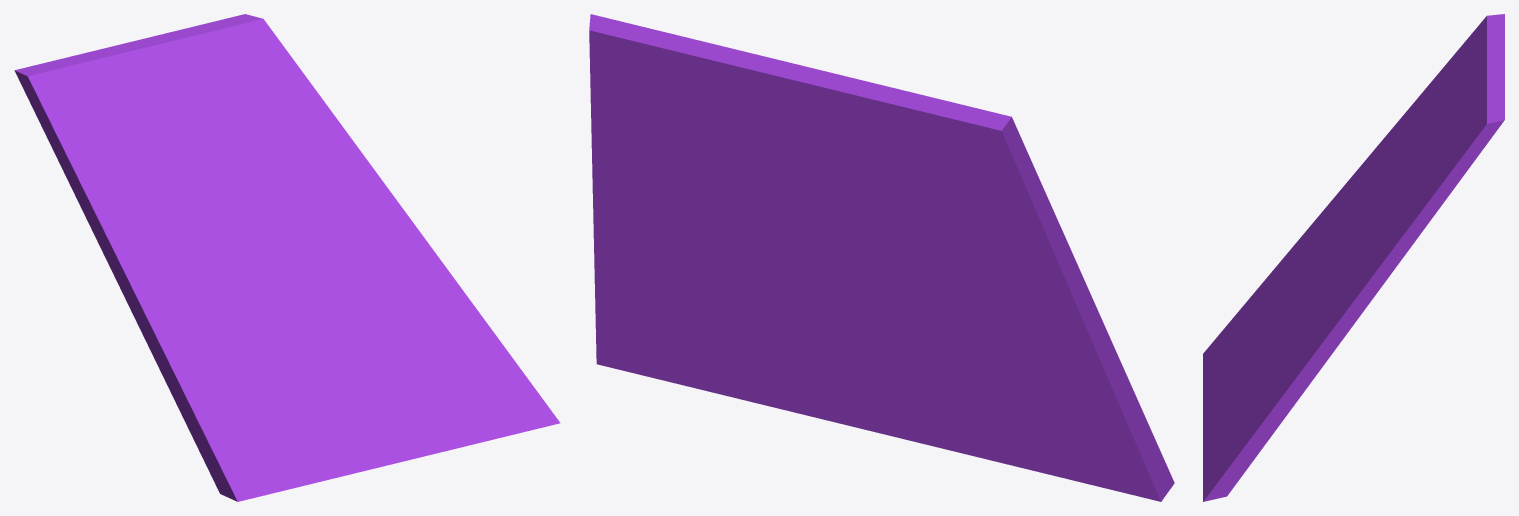
File: Window_87.fbx
3 renders of one model, left to right at view 1: azimuth 30°, elevation 25°; view 2: azimuth 150°, elevation 25°; view 3: azimuth 270°, elevation 25°, orthographic. The views are drawn at different scales.
Parts seen in each view (by area): view 1: Window_87; view 2: Window_87; view 3: Window_87.
Boxes of the visible parts, x1,y1,x2,y2 form: Window_87: (14,14,560,501); Window_87: (589,14,1174,501); Window_87: (1203,14,1504,501).
Size of the model in its own units: 1159 by 947 by 833.
